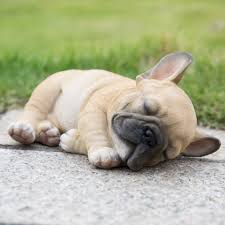Bulldog: (9, 51, 221, 175)
